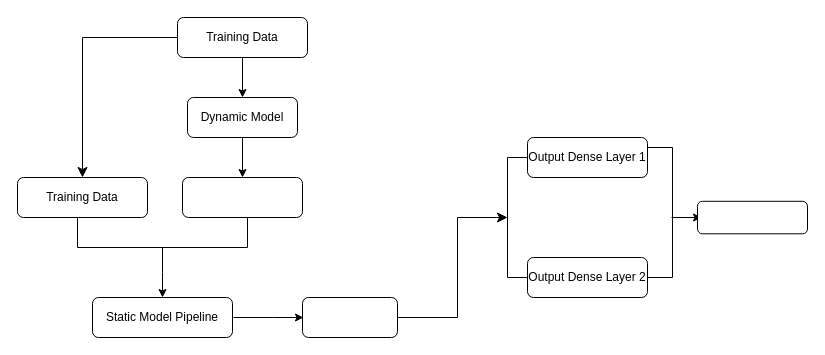
This 825x355 diagram has some shape labels left out. Each missing label, with the centre of its shape:
"Joint Loss" belongs at (x=752, y=217).
"Predictions" belongs at (x=242, y=197).
"Static Model Hidden Layers" belongs at (x=350, y=317).
